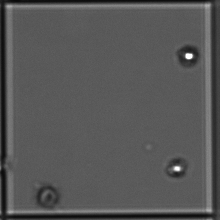Dead Cell: (35, 185, 60, 208)
Living Cell: (165, 159, 188, 177), (179, 45, 197, 66)
